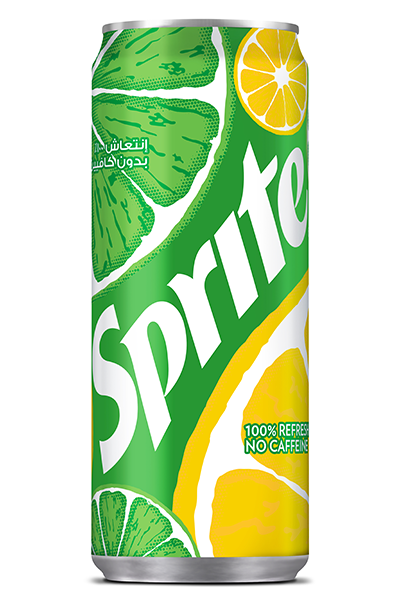sprite_can: (90, 20, 308, 582)
